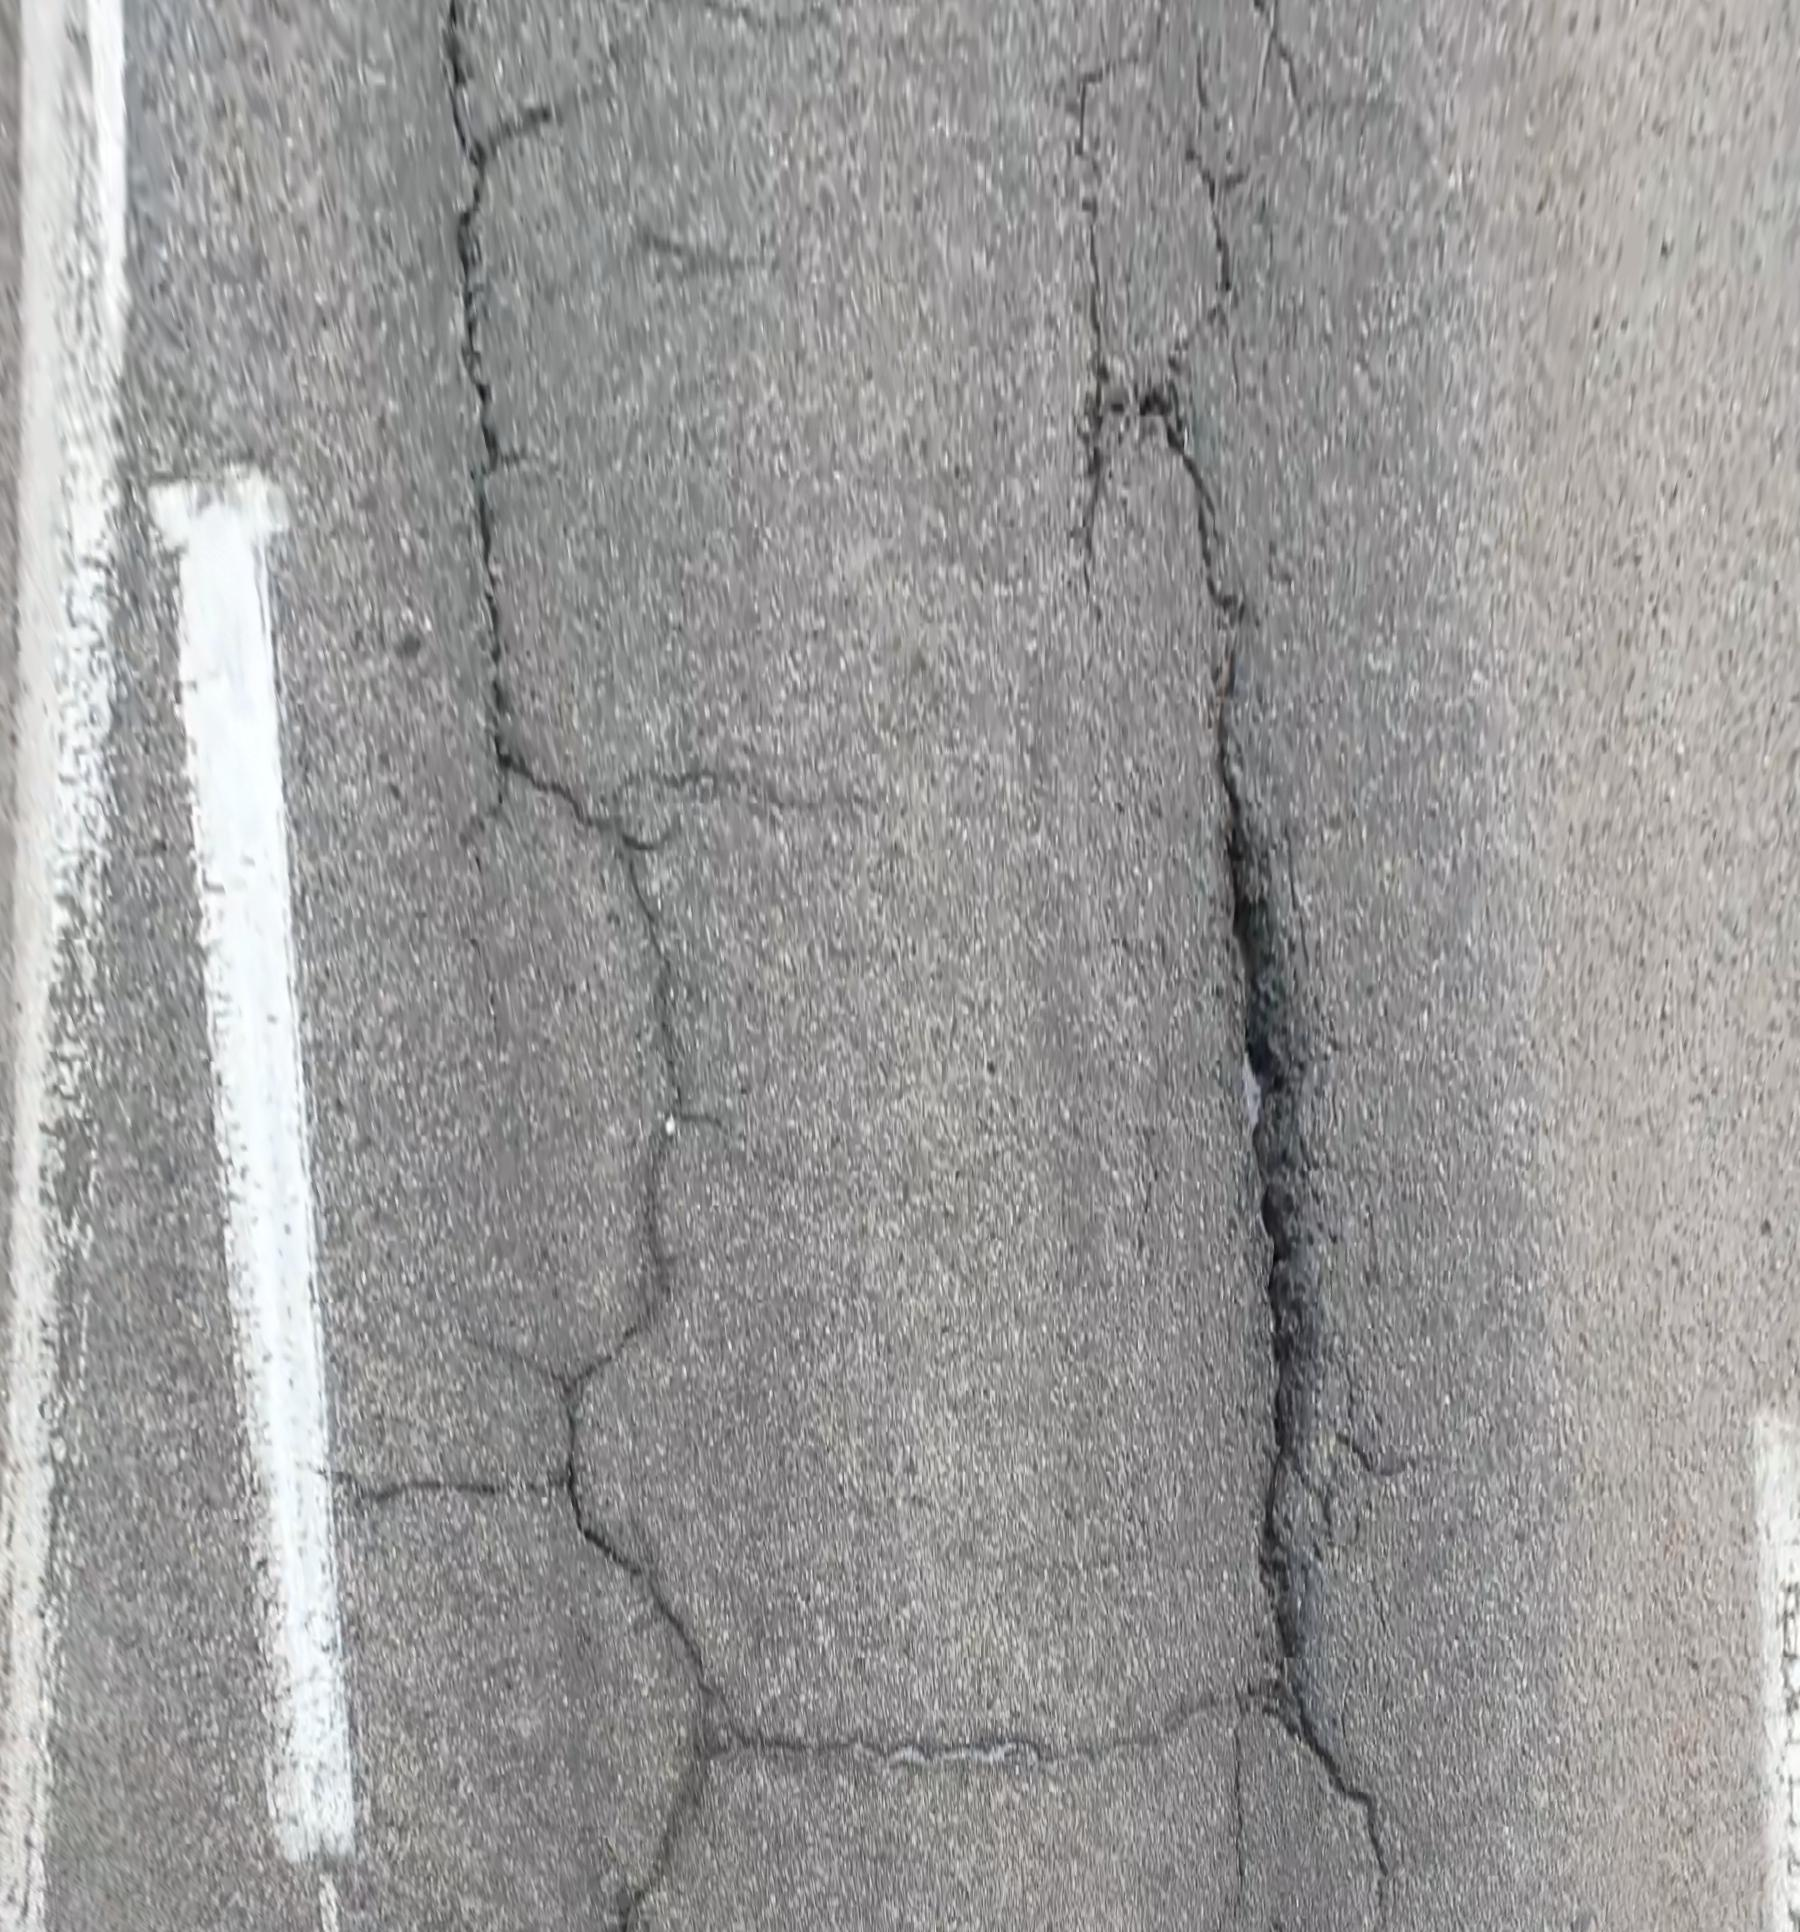pothole: (1227, 741, 1304, 1705)
